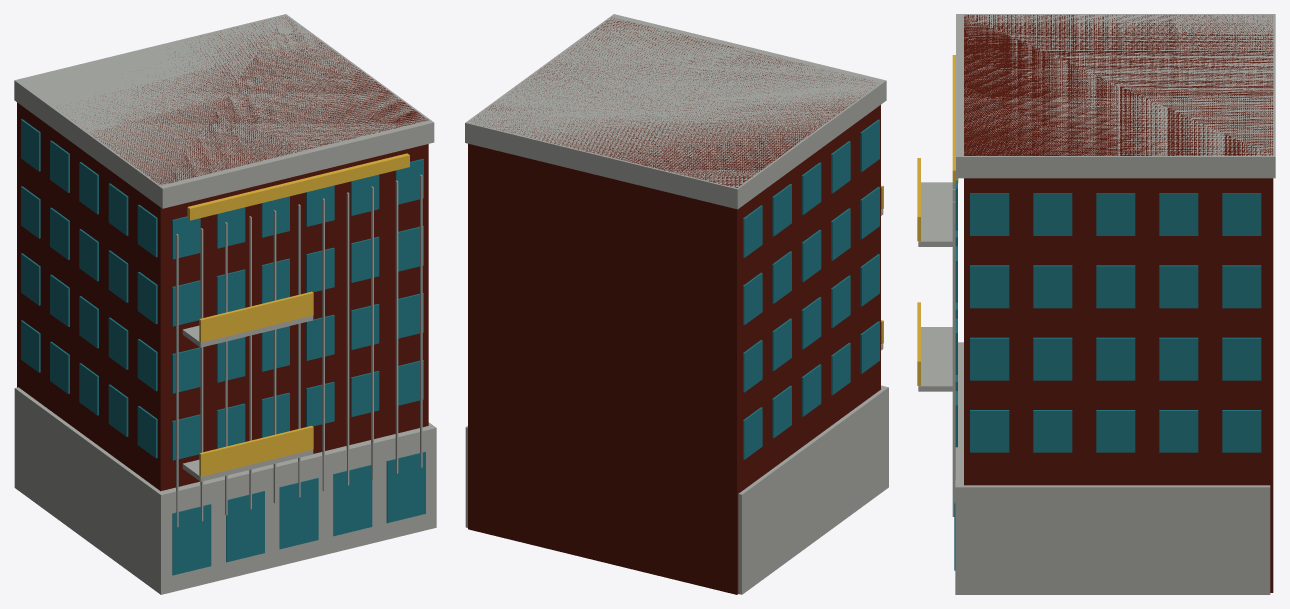
File: JHB_MidRise02_LOD2.fbx
3 renders of one model, left to right at view 1: azimuth 30°, elevation 25°; view 2: azimuth 150°, elevation 25°; view 3: azimuth 270°, elevation 25°, orthographic. The views are drawn at different scales.
Parts seen in each view (by area): view 1: JHB_MidRise02_LOD2_Concrete, JHB_MidRise02_LOD2_FacadeAtlas, JHB_MidRise02_LOD2_TealGlass, JHB_MidRise02_LOD2_Accent, JHB_MidRise02_LOD2_BlankSignBand; view 2: JHB_MidRise02_LOD2_FacadeAtlas, JHB_MidRise02_LOD2_Concrete, JHB_MidRise02_LOD2_TealGlass; view 3: JHB_MidRise02_LOD2_FacadeAtlas, JHB_MidRise02_LOD2_Concrete, JHB_MidRise02_LOD2_TealGlass, JHB_MidRise02_LOD2_Accent, JHB_MidRise02_LOD2_BlankSignBand.
Part boxes in pixels (x1,y1,x2,y2): JHB_MidRise02_LOD2_Concrete: (14,14,436,594); JHB_MidRise02_LOD2_FacadeAtlas: (17,17,428,491); JHB_MidRise02_LOD2_TealGlass: (21,119,425,575); JHB_MidRise02_LOD2_Accent: (199,291,313,476); JHB_MidRise02_LOD2_BlankSignBand: (187,153,409,220); JHB_MidRise02_LOD2_FacadeAtlas: (468,17,880,594); JHB_MidRise02_LOD2_Concrete: (465,14,888,594); JHB_MidRise02_LOD2_TealGlass: (743,119,879,459); JHB_MidRise02_LOD2_FacadeAtlas: (964,15,1273,592); JHB_MidRise02_LOD2_Concrete: (918,14,1275,594); JHB_MidRise02_LOD2_TealGlass: (954,180,1261,570); JHB_MidRise02_LOD2_Accent: (917,158,920,385); JHB_MidRise02_LOD2_BlankSignBand: (952,55,958,183).
Size of the model in its own units: 9.25 by 13 by 9.66.
5 materials, 1 textured.
